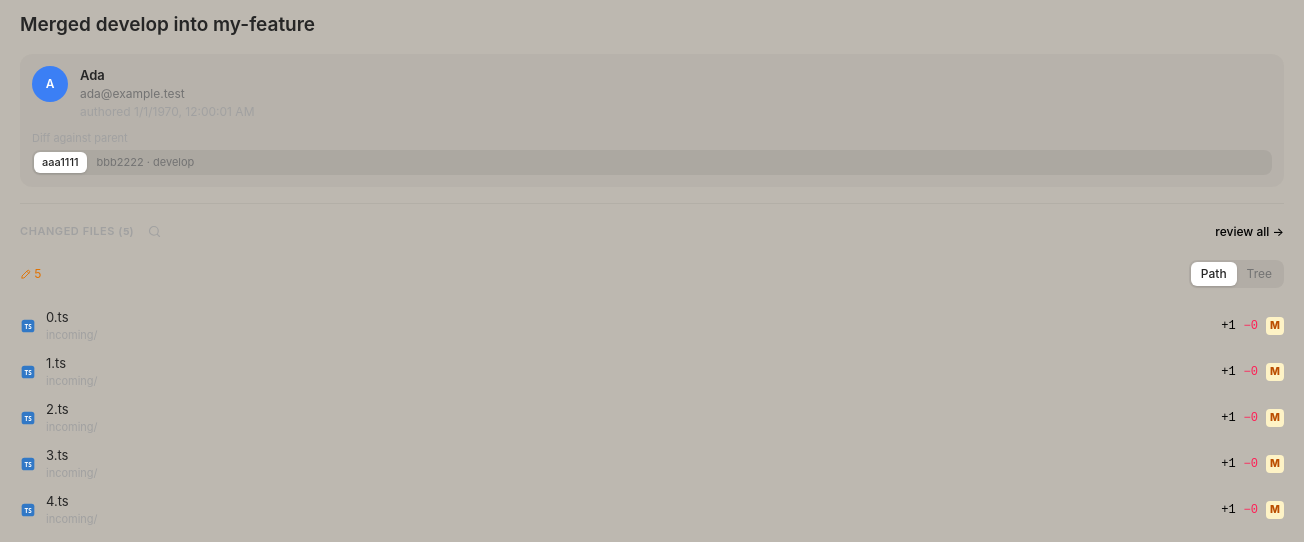
CommitInspector › reloads the feature-scope file list when the second parent is selected
expect the element titled "5 modified" is shown: met, box [20,265,42,283]
Step 1. Click the button "bbb2222 · develop" → (145, 162), box [89,152,202,173]
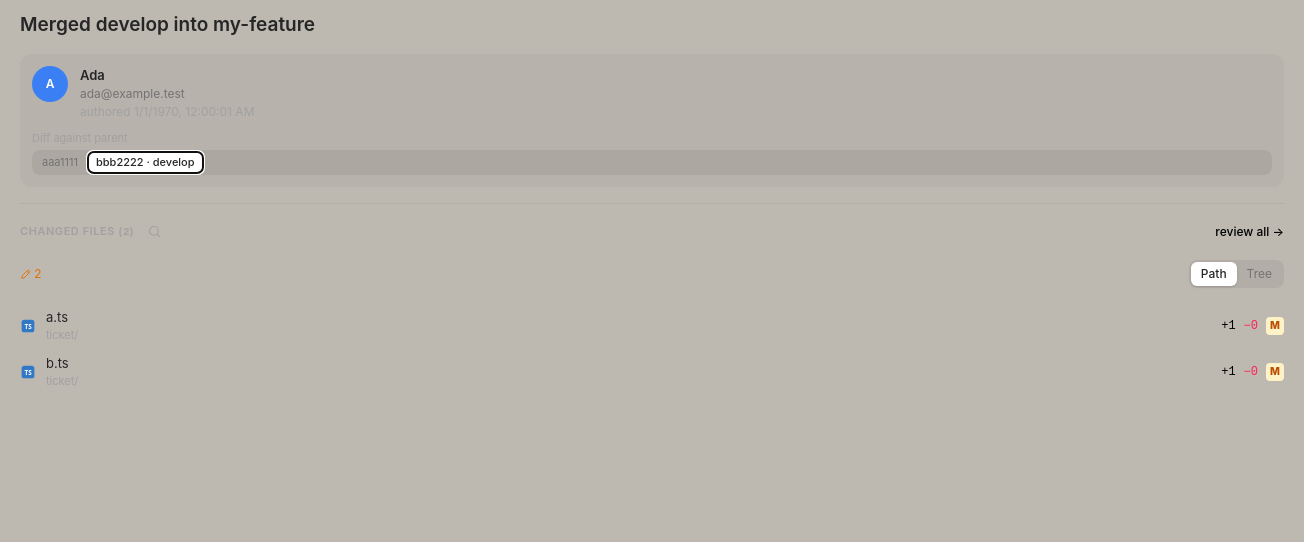
expect the element titled "2 modified" is shown: met, box [20,265,42,283]
expect the text "a.ts" is shown: met, box [46,309,68,325]
expect the text "b.ts" is shown: met, box [46,355,69,371]
